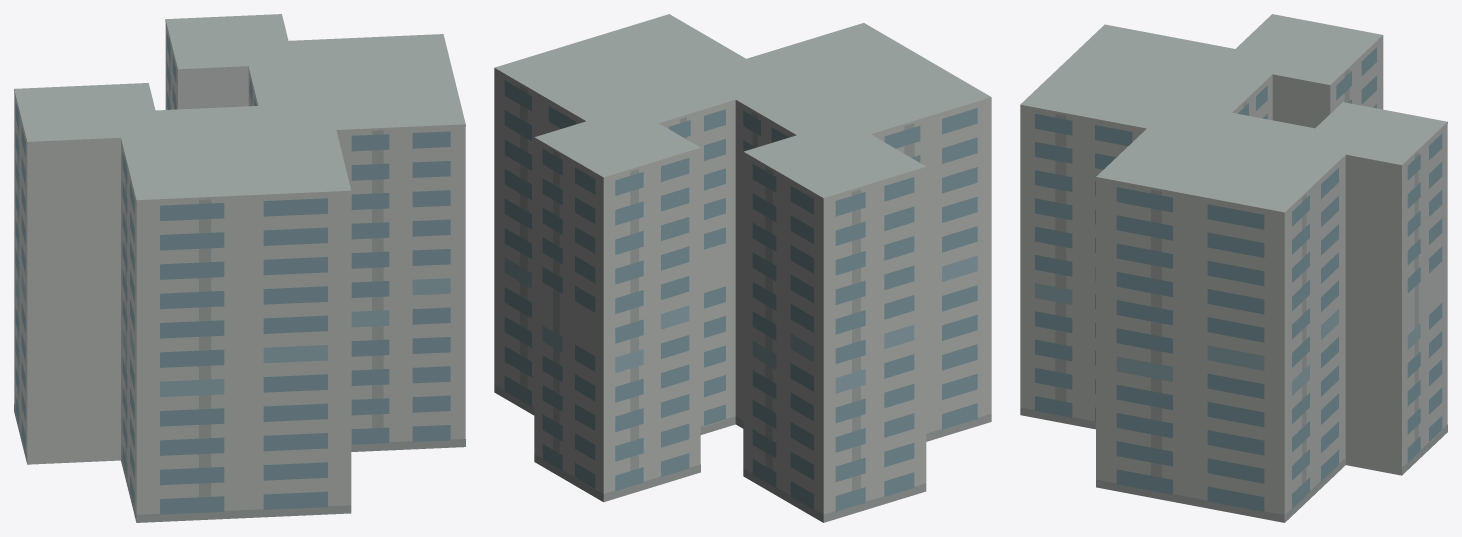
Rendered from residential-66e90c60-1515-4caf-b4af-5a81a6cd9b2d.glb.
The picture shows the model from 3 angles, left to right: view 1: azimuth 30°, elevation 25°; view 2: azimuth 150°, elevation 25°; view 3: azimuth 270°, elevation 25°; orthographic projection. The views are drawn at different scales.
Parts seen in each view (by area): view 1: residential-66e90c60-1515-4caf-b4af-5a81a6cd9b2d.tmp; view 2: residential-66e90c60-1515-4caf-b4af-5a81a6cd9b2d.tmp; view 3: residential-66e90c60-1515-4caf-b4af-5a81a6cd9b2d.tmp.
Part boxes in pixels (box(x1,y1,x2,y2)): residential-66e90c60-1515-4caf-b4af-5a81a6cd9b2d.tmp: box(14, 14, 465, 522); residential-66e90c60-1515-4caf-b4af-5a81a6cd9b2d.tmp: box(494, 14, 991, 522); residential-66e90c60-1515-4caf-b4af-5a81a6cd9b2d.tmp: box(1020, 14, 1447, 522).
Bounding box in the file's own units: 46.62 × 34 × 42.45.
